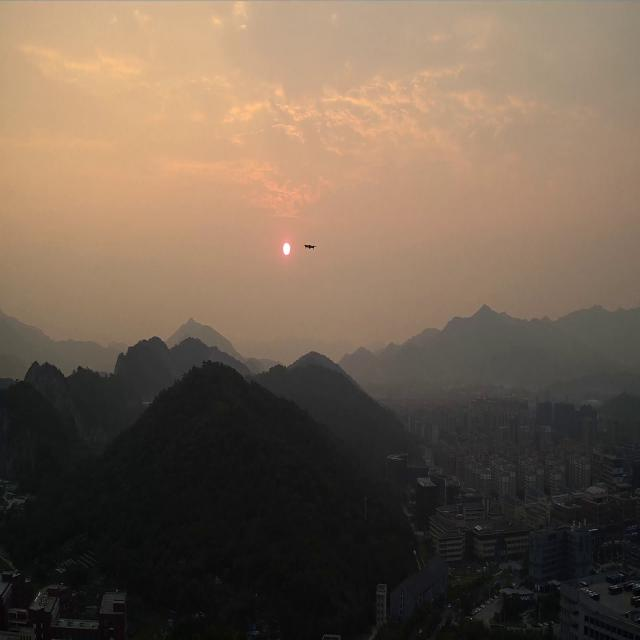drone: (303, 242, 317, 250)
